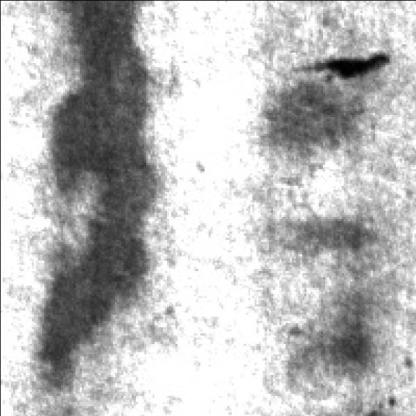patches: (27, 5, 160, 400), (252, 71, 372, 160), (298, 297, 374, 385)
